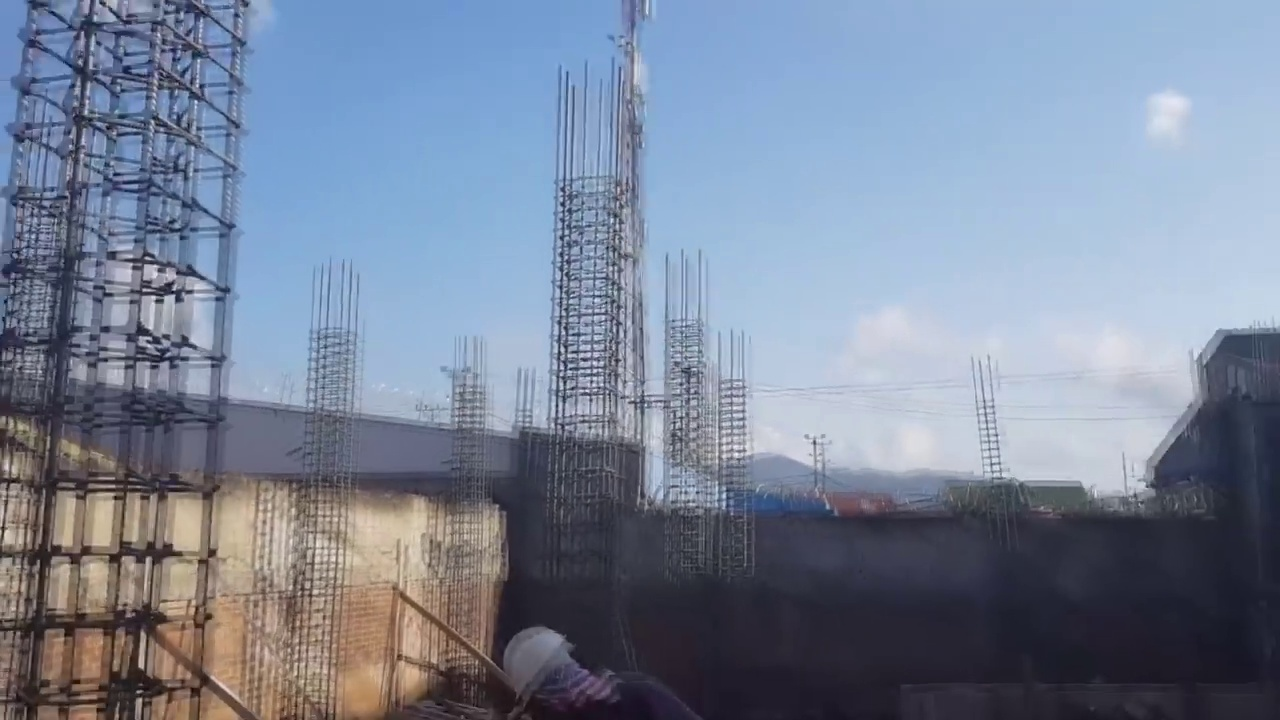helmet: (499, 624, 565, 701)
helmet-on: (498, 621, 608, 717)
person: (496, 618, 709, 718)
